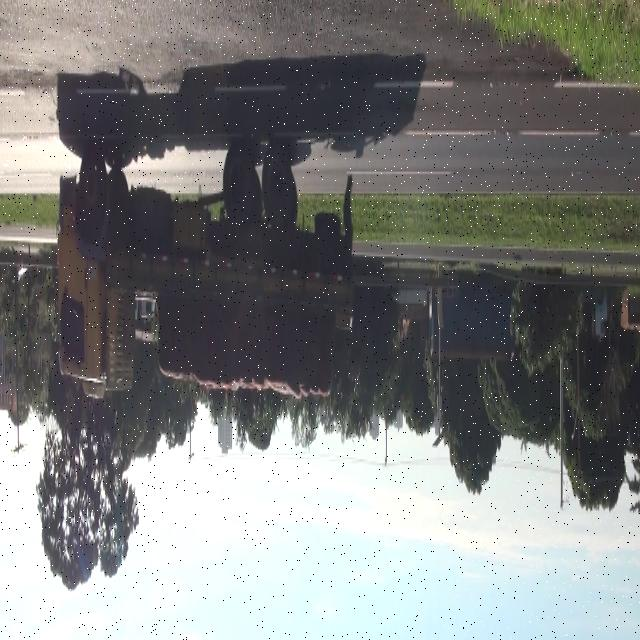-axle: (220, 148, 256, 235), (260, 148, 294, 236), (79, 145, 106, 233)
